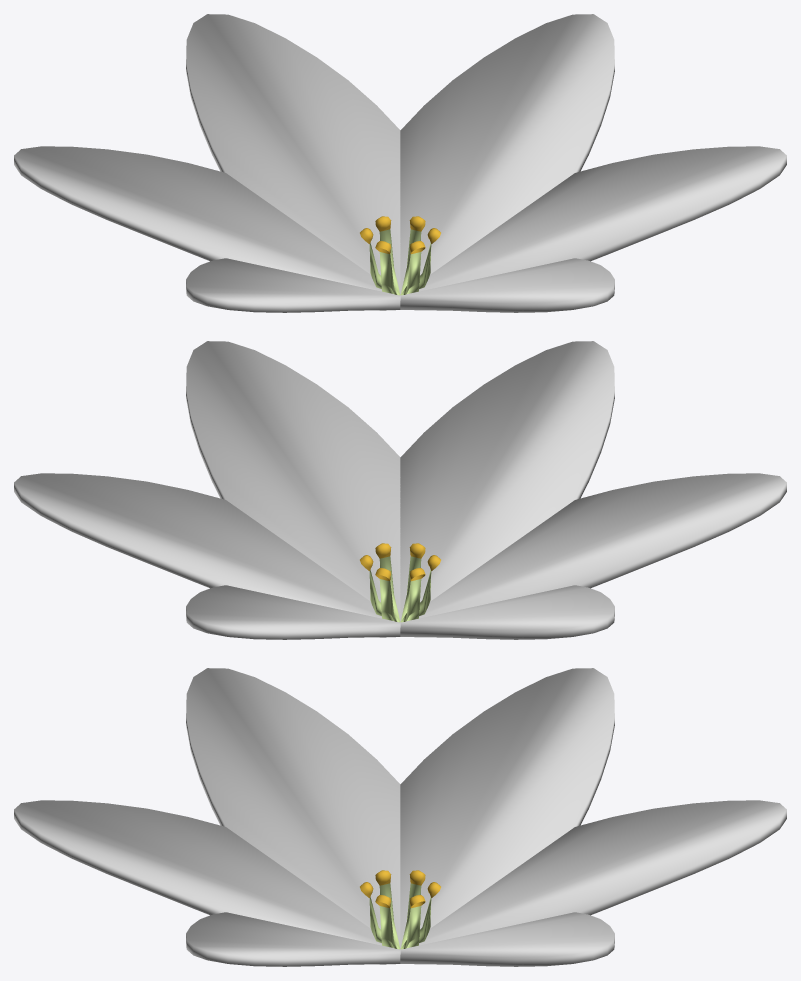
The model's file is Jasmin.fbx.
3 views of the same model, one above another, from view 1: azimuth 30°, elevation 25°; view 2: azimuth 150°, elevation 25°; view 3: azimuth 270°, elevation 25° (orthographic).
Parts seen in each view (by area): view 1: Cylinder.001; view 2: Cylinder.001; view 3: Cylinder.001.
Boxes of the visible parts, x1,y1,x2,y2 form: Cylinder.001: (14, 14, 786, 312); Cylinder.001: (14, 341, 786, 639); Cylinder.001: (14, 668, 786, 966).
Bounding box in the file's own units: 658 × 160 × 751.
